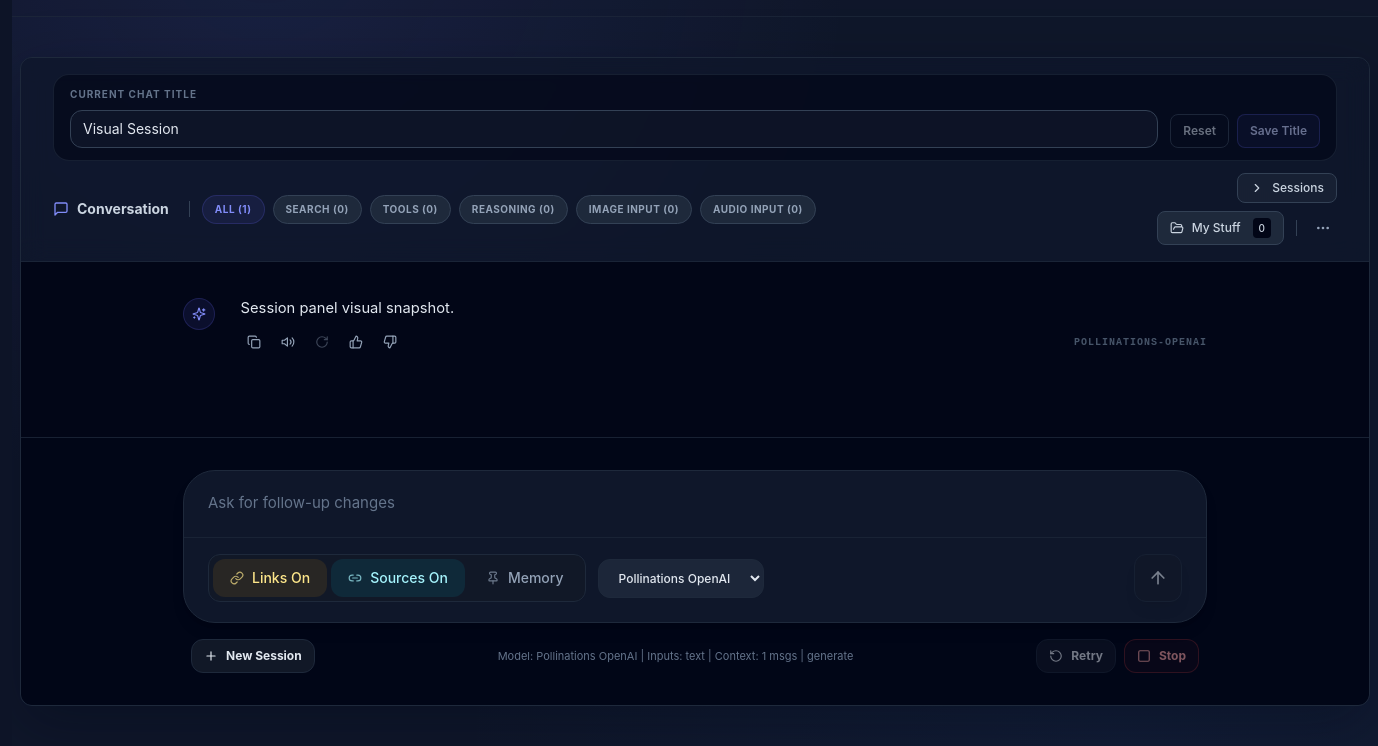
it: AIChat visual regression states › captures state with session panel open
(page scrolled)
Click the button titled "Show sessions" at (1287, 188), box [1237, 173, 1337, 203]
(page scrolled)
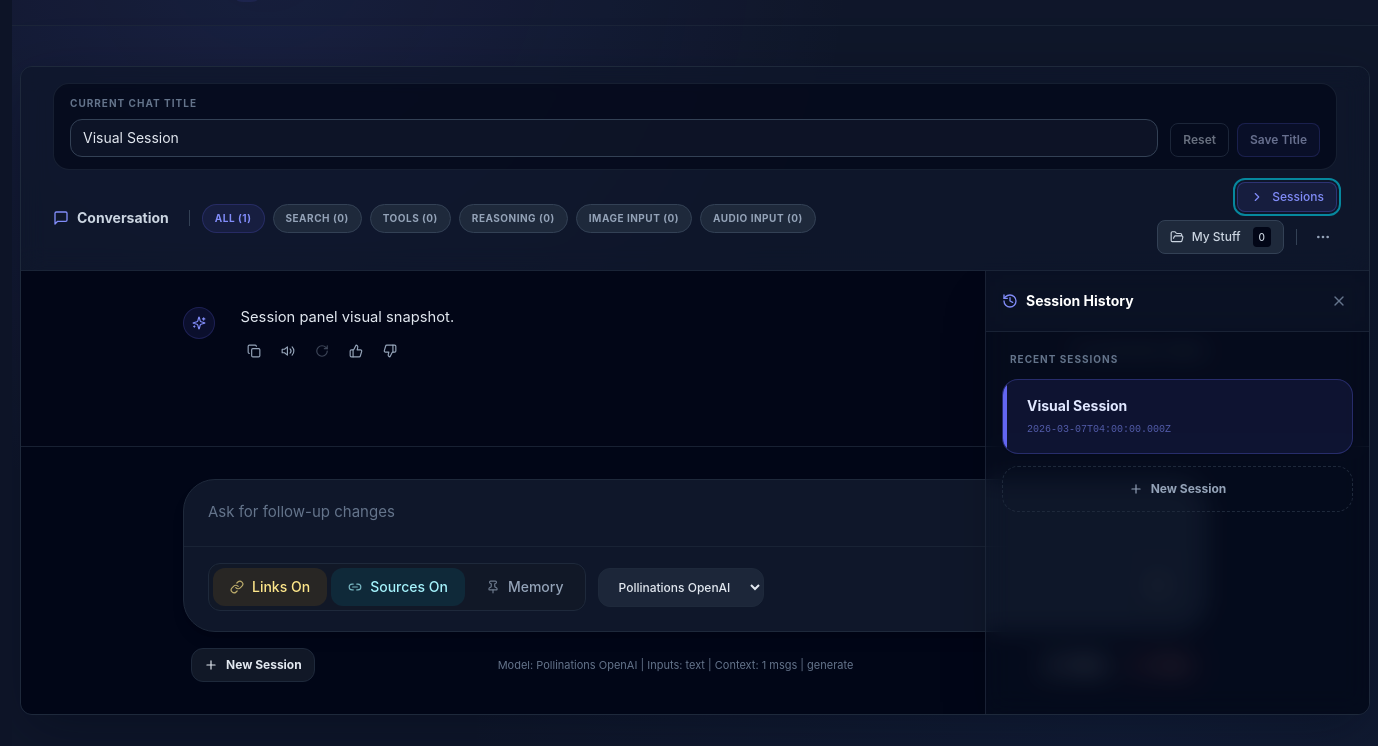
Check: the text "Recent Sessions" is shown, box [1010, 353, 1118, 365]
